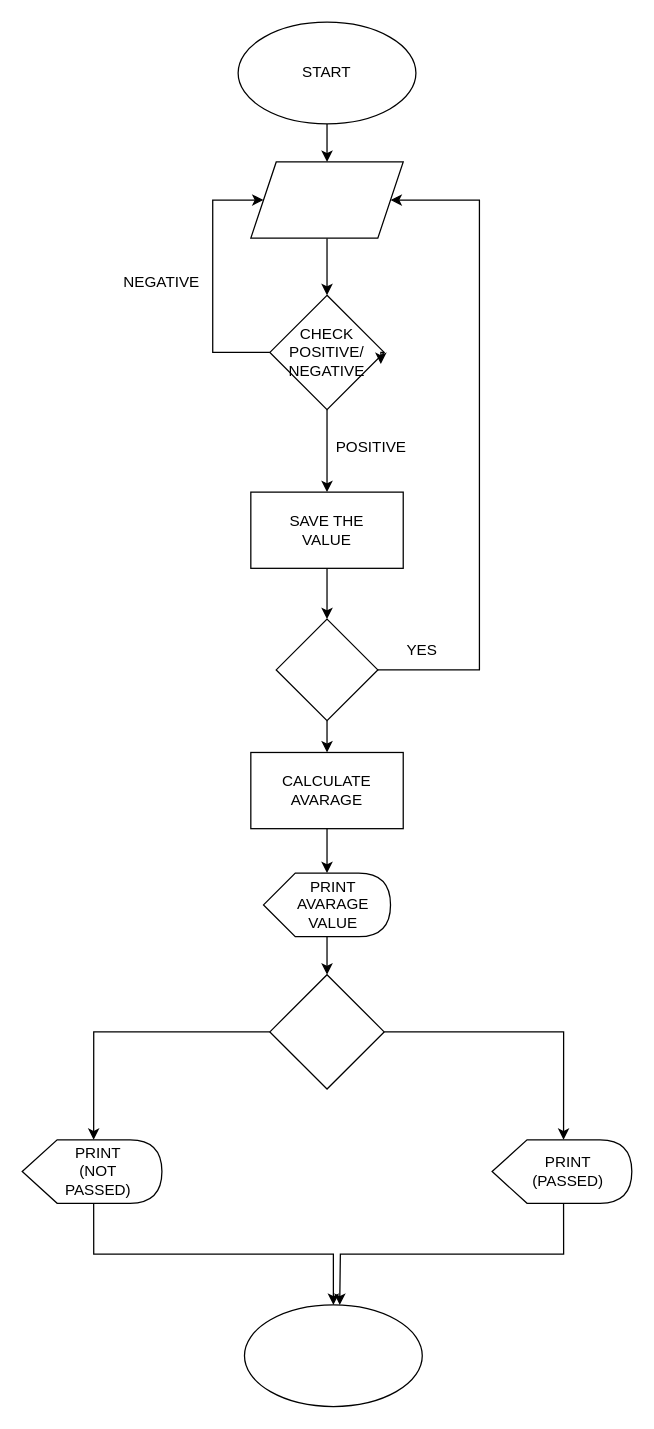
This 654x1429 diagram has some shape labels left out. Each missing label, with the centre of its shape:
AVARAGE MORE THAN 50?: [326,1031]
END: [332,1355]
INPUT ANOTHER VALUE: [326,669]
INPUT VALUE: [326,199]
